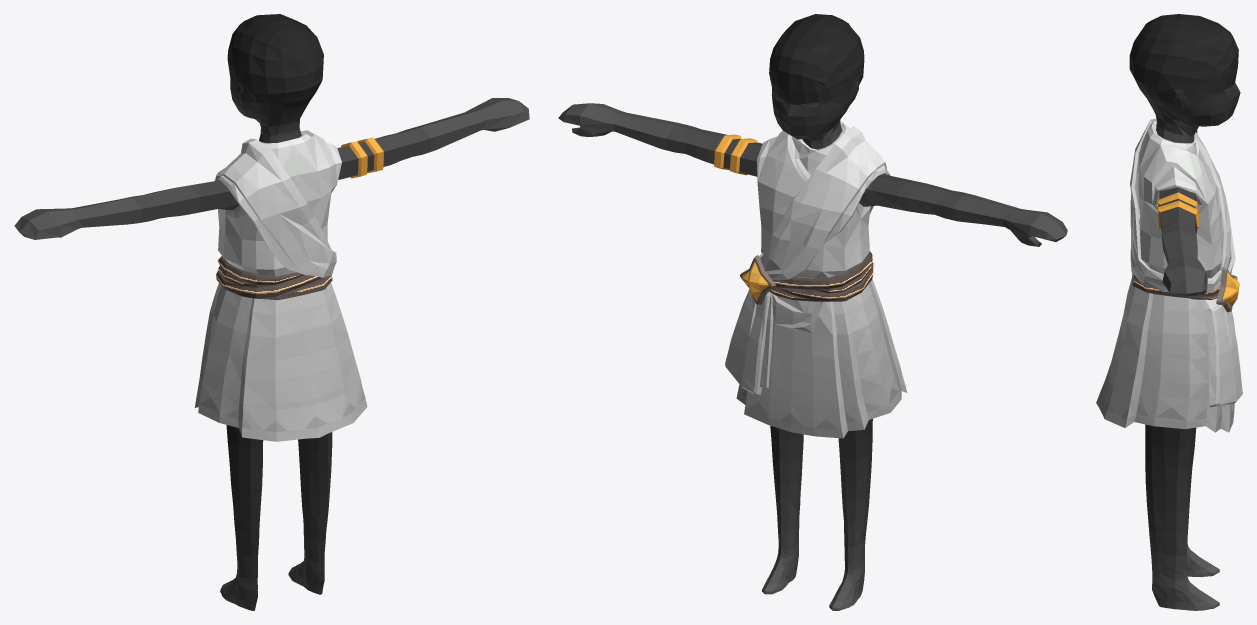
File: CharSkyKid_Body_GreekRobe.glb
3 renders of one model, left to right at view 1: azimuth 30°, elevation 25°; view 2: azimuth 150°, elevation 25°; view 3: azimuth 270°, elevation 25°, orthographic.
Visible parts, largest first — view 1: CharSkyKid_Body_GreekRobe; view 2: CharSkyKid_Body_GreekRobe; view 3: CharSkyKid_Body_GreekRobe.
Boxes of the visible parts, left/top/right/bottom form: CharSkyKid_Body_GreekRobe: left=14, top=14, right=529, bottom=610; CharSkyKid_Body_GreekRobe: left=558, top=14, right=1067, bottom=610; CharSkyKid_Body_GreekRobe: left=1096, top=14, right=1242, bottom=610.
Bounding box in the file's own units: 13.83 × 14.93 × 3.47.
1 material, 1 textured.
